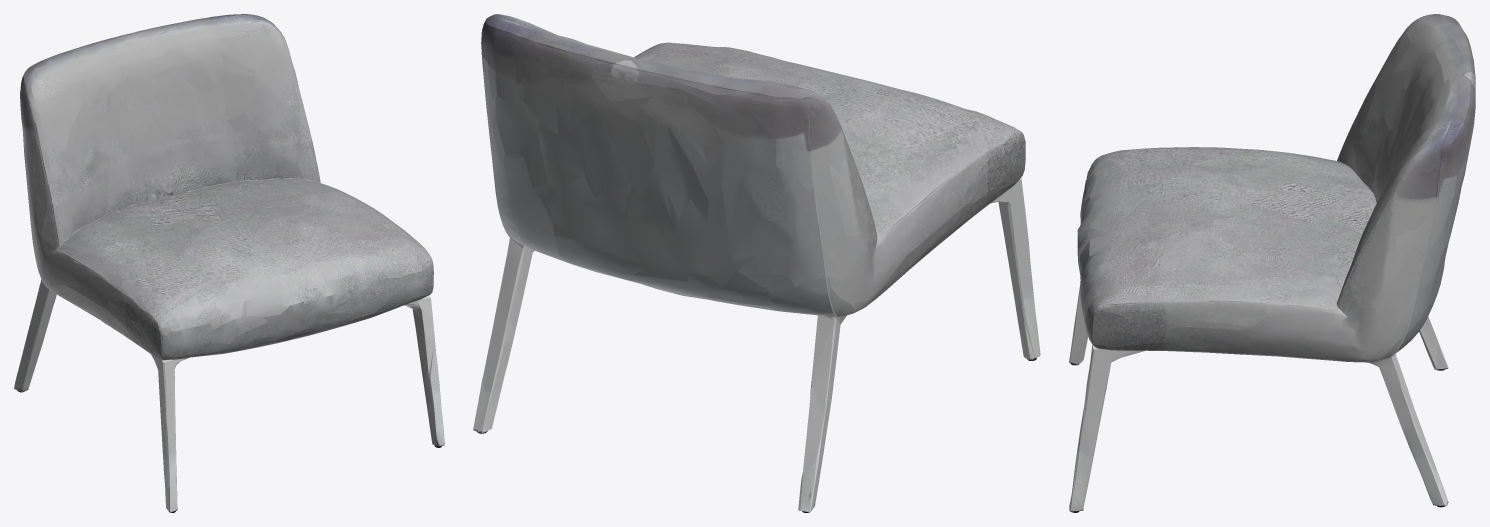
Rendered from lounge-chair.glb.
The picture shows the model from 3 angles, left to right: view 1: azimuth 30°, elevation 25°; view 2: azimuth 150°, elevation 25°; view 3: azimuth 270°, elevation 25°; orthographic projection. The views are drawn at different scales.
Bounding box in the file's own units: 1.72 × 1.87 × 1.9.
Materials: 1 (1 with a texture image).
